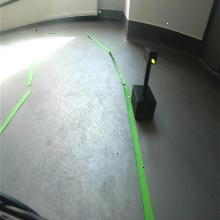green: (144, 45, 158, 65)
